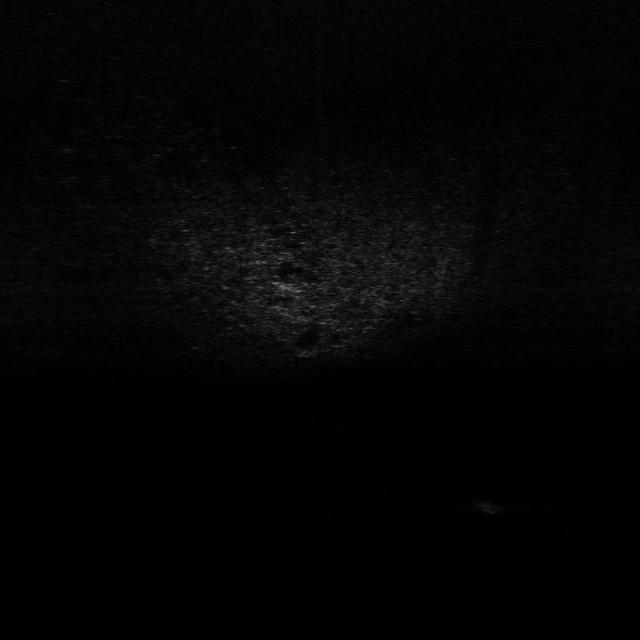cylinder: (460, 497, 516, 514)
